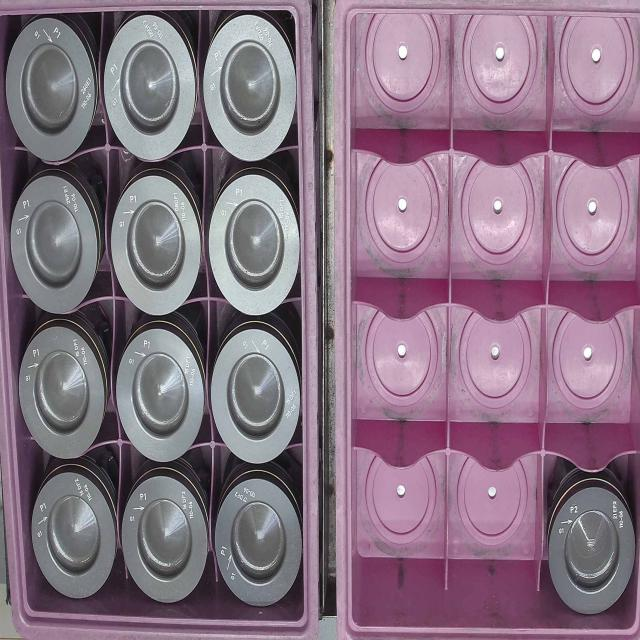P1: (204, 16, 296, 164), (102, 16, 196, 160), (10, 170, 101, 316), (6, 14, 96, 160), (113, 168, 200, 318), (28, 467, 122, 604), (210, 173, 298, 315), (15, 329, 106, 459), (216, 476, 300, 616), (119, 326, 204, 460), (216, 329, 300, 464), (124, 476, 208, 610)
P2: (550, 474, 634, 617)
